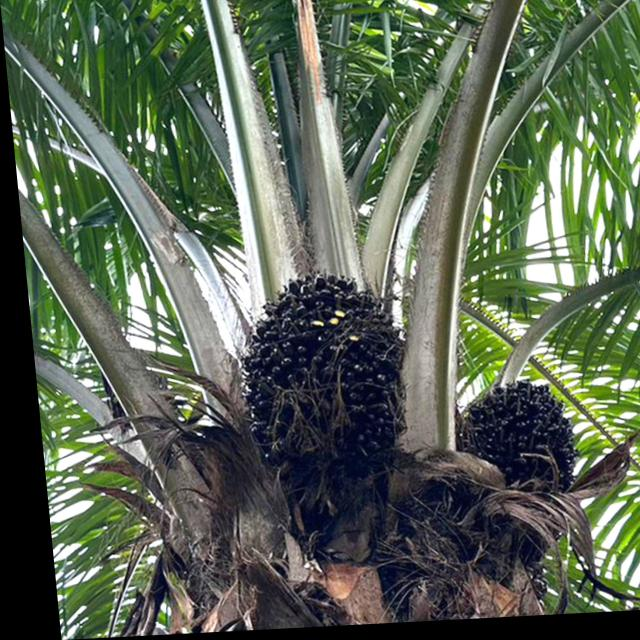unripe: (218, 263, 409, 474), (445, 375, 576, 506)
